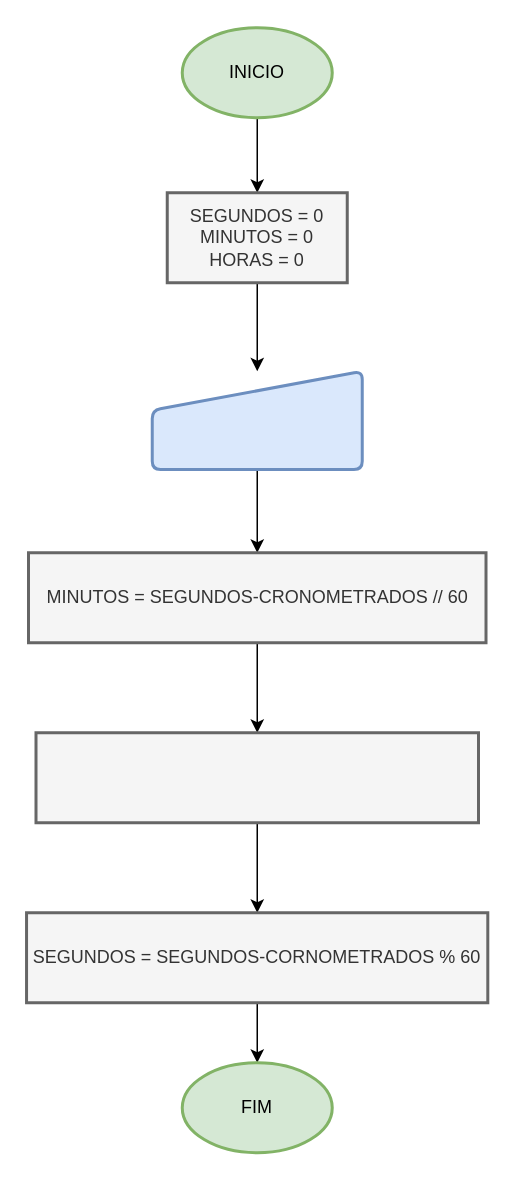
Some shapes in this 516 by 1179 pixel diagram are drawn without their labels. The shapes that lost their labels are listed below. From the top down, each one's centre as x and y in pixels, then its label:
At point 256,419: "SEGUNDOS-CRONOMETRADOS".
At point 256,777: "HORAS = SEGUNDOS-CRONOMETRADOS // 3600".
